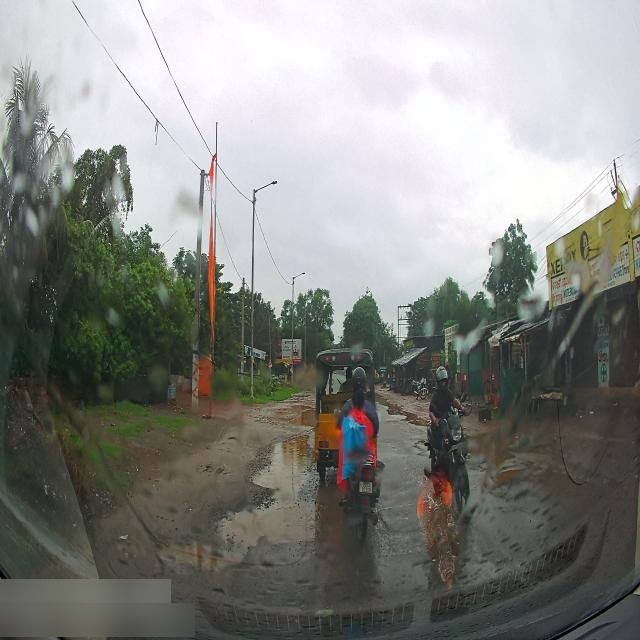pothole: (233, 496, 344, 556), (249, 428, 317, 496), (164, 526, 234, 582), (376, 397, 420, 427), (279, 394, 317, 427), (487, 463, 533, 490)
